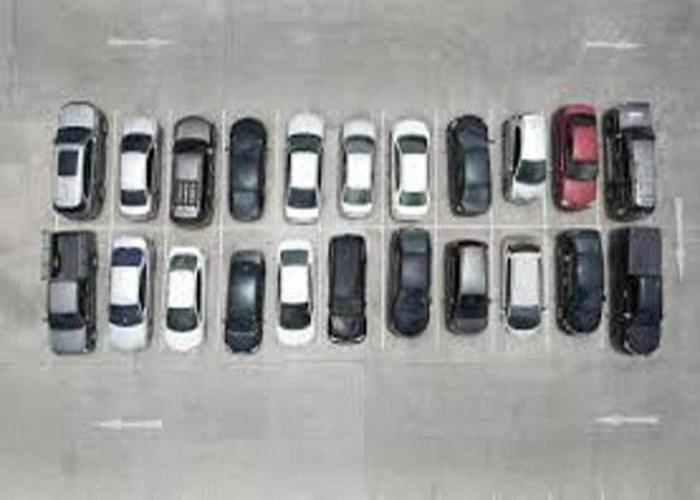car: (42, 230, 100, 361), (100, 232, 157, 352), (317, 229, 375, 344), (553, 227, 611, 335), (437, 237, 495, 342), (217, 248, 270, 362), (162, 243, 209, 362), (222, 116, 272, 226), (332, 118, 379, 220)
